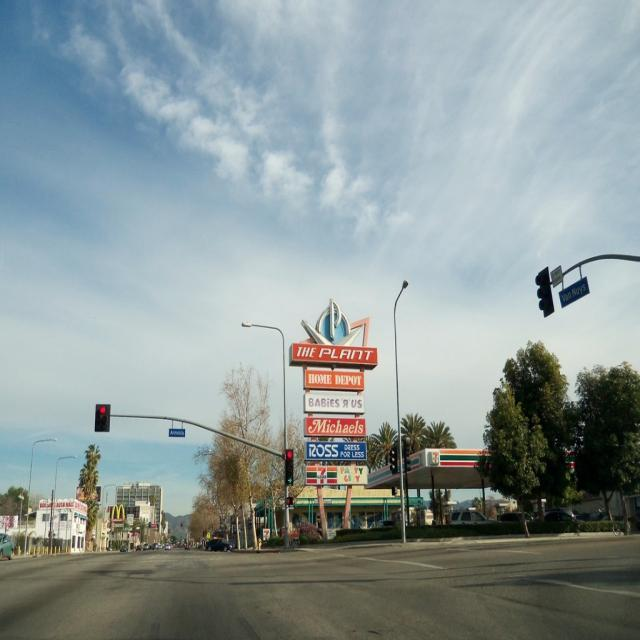traffic light: (534, 265, 556, 318), (285, 448, 294, 484)
